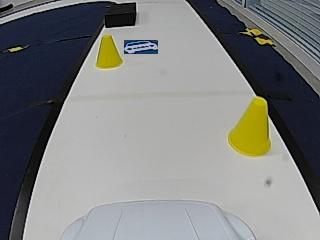block: (104, 2, 136, 27)
cone: (229, 97, 272, 157), (96, 35, 123, 69)
